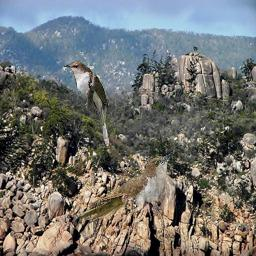Cuckoo: (75, 153, 175, 220), (63, 61, 109, 147)
